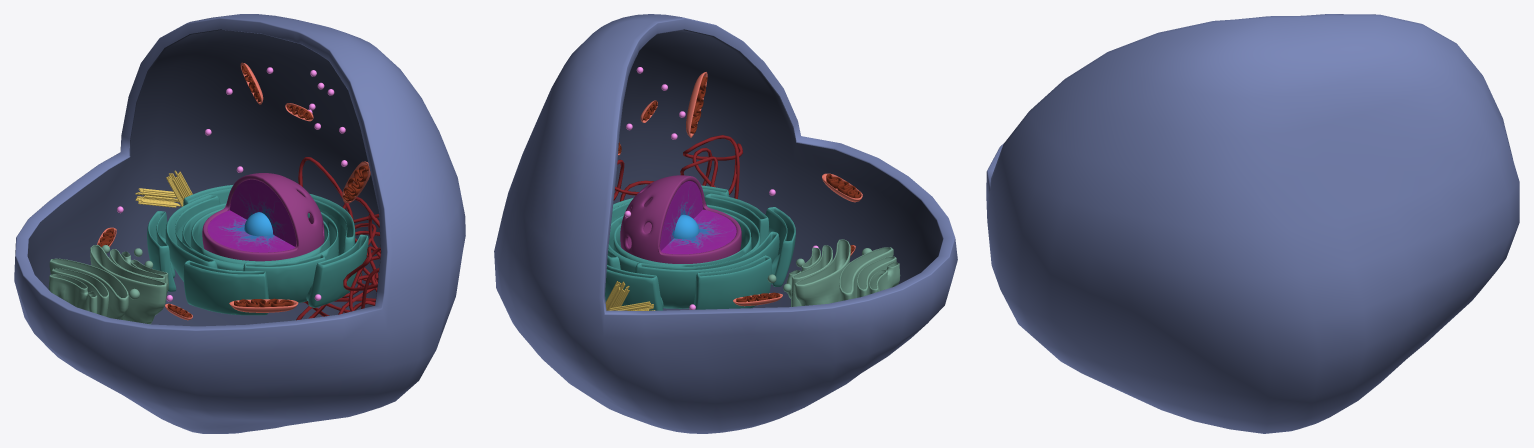
The model's file is Cell_Eukaryotic.gltf.
3 renders of one model, left to right at view 1: azimuth 30°, elevation 25°; view 2: azimuth 150°, elevation 25°; view 3: azimuth 270°, elevation 25°, orthographic. The views are drawn at different scales.
Parts seen in each view (by area): view 1: Sphere.055, Cube.083, Cube.084, Sphere.104, Sphere.054, BezierCircle.016, Cylinder.003, Sphere.103, BezierCircle.014, Cylinder.002, Sphere.056, BezierCircle.010; view 2: Sphere.055, Cube.083, Cube.084, Sphere.054, Sphere.104, BezierCircle.016, Sphere.103, Sphere.060; view 3: Sphere.055.
Part boxes in pixels (<box>): Sphere.055: <box>14,14,465,433</box>; Cube.083: <box>147,184,368,315</box>; Cube.084: <box>48,245,168,324</box>; Sphere.104: <box>207,179,296,252</box>; Sphere.054: <box>202,173,324,261</box>; BezierCircle.016: <box>296,157,380,320</box>; Cylinder.003: <box>135,188,180,207</box>; Sphere.103: <box>244,212,273,236</box>; BezierCircle.014: <box>343,165,368,201</box>; Cylinder.002: <box>166,170,192,206</box>; Sphere.056: <box>229,299,298,312</box>; BezierCircle.010: <box>234,298,293,307</box>; Sphere.055: <box>494,14,957,433</box>; Cube.083: <box>605,185,795,310</box>; Cube.084: <box>786,239,900,306</box>; Sphere.054: <box>620,175,741,263</box>; Sphere.104: <box>660,181,736,254</box>; BezierCircle.016: <box>613,135,742,201</box>; Sphere.103: <box>674,214,699,238</box>; Sphere.060: <box>686,72,707,137</box>; Sphere.055: <box>986,14,1519,433</box>.
Size of the model in its own units: 80.92 by 70.62 by 81.63.
Materials: 13 (1 with a texture image).
